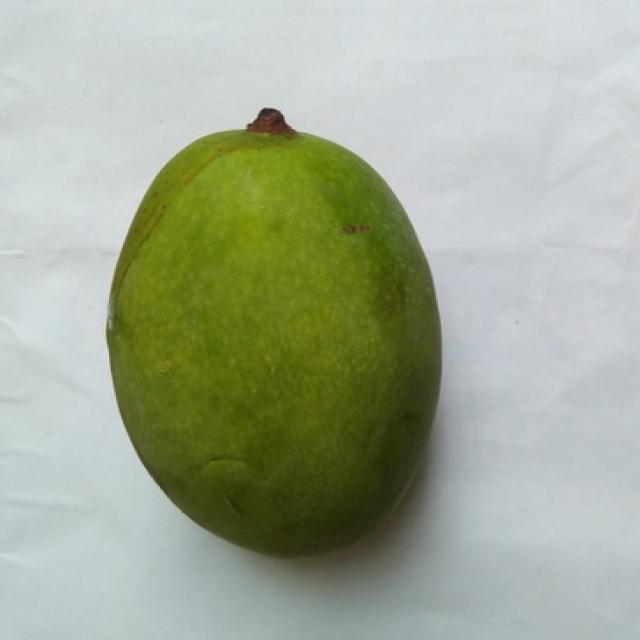Mango: (105, 128, 440, 555)
